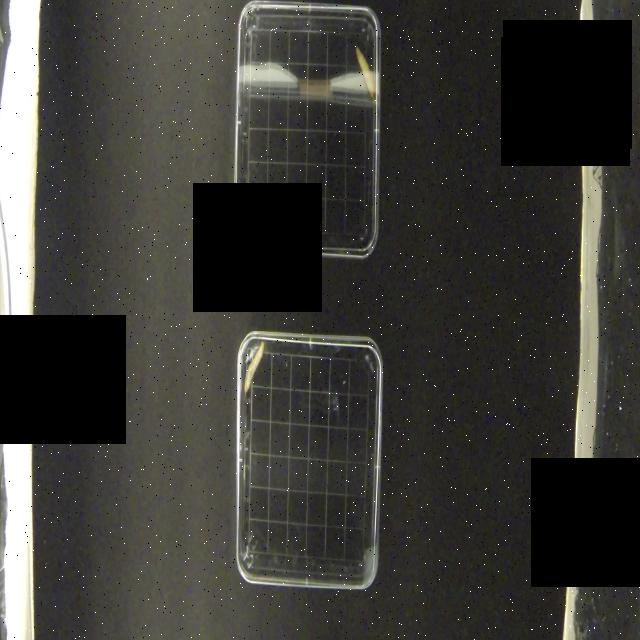larva: (243, 340, 266, 398), (354, 42, 374, 98)
